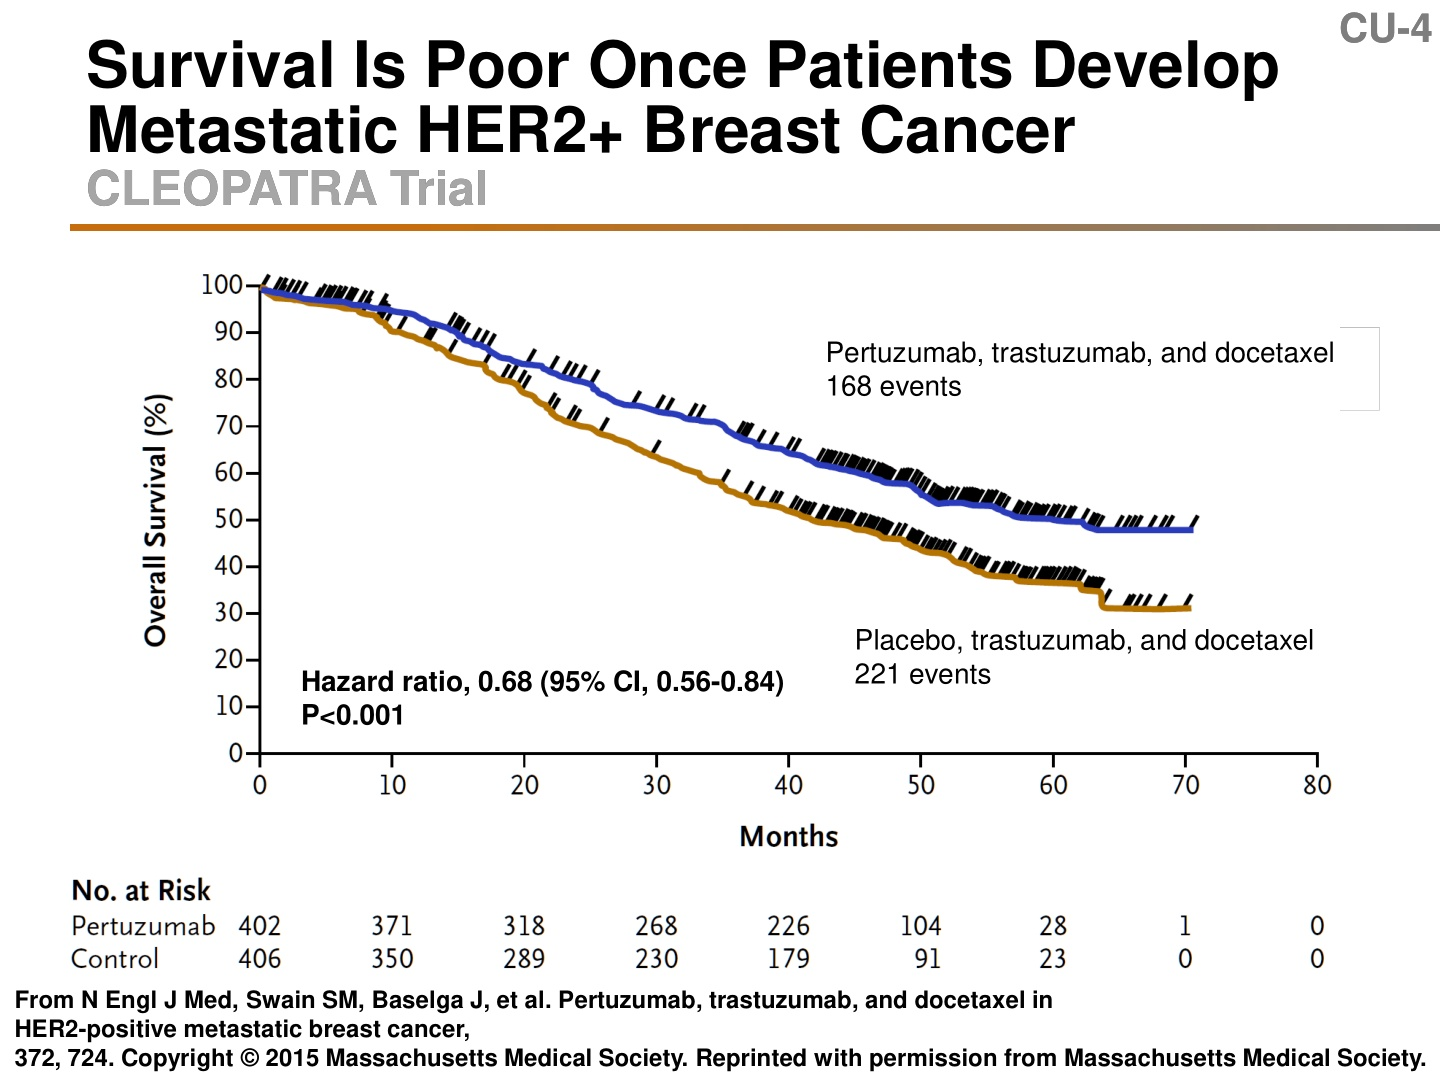nolines: (65, 877, 1331, 973)
